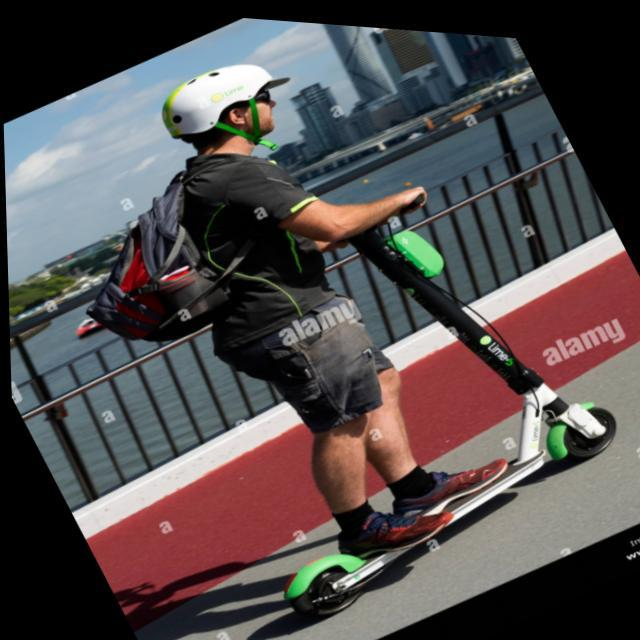Helmet: (155, 54, 291, 164)
